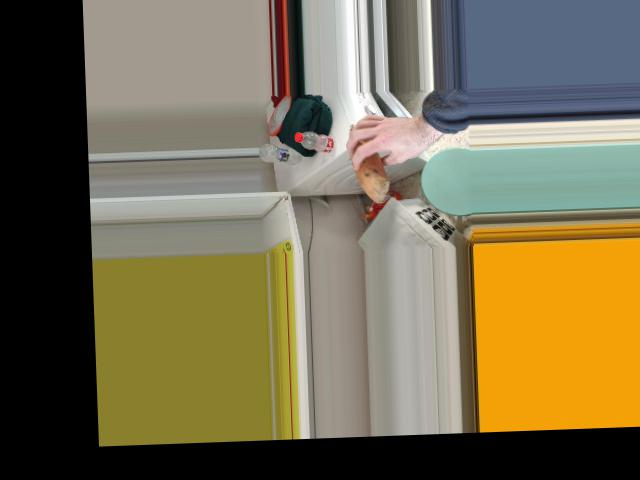sweet_potato: (347, 118, 387, 201)
